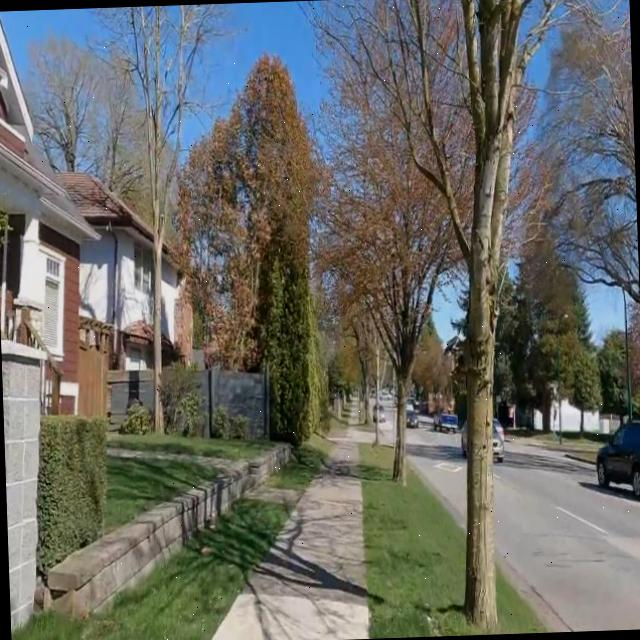Automobile: (596, 420, 640, 497), (492, 419, 505, 462), (433, 414, 456, 430), (406, 398, 416, 426), (460, 427, 465, 454), (378, 405, 385, 423)
Road: (493, 440, 640, 632), (408, 428, 465, 527)
Sidewalk: (210, 438, 367, 640), (244, 482, 301, 509)
